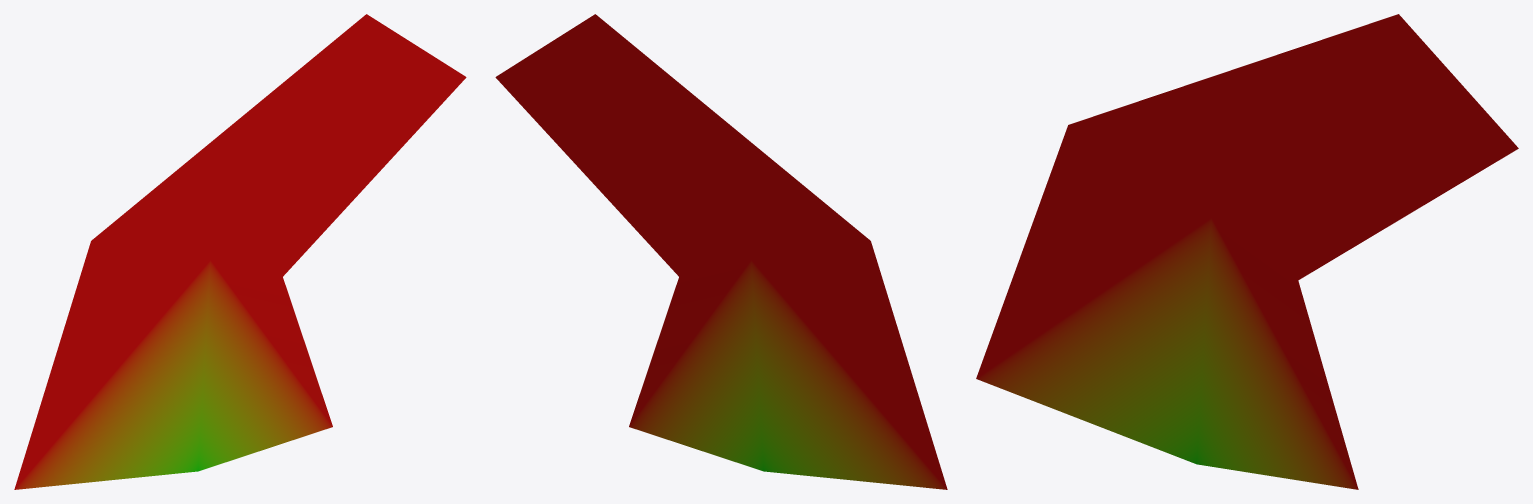
The model's file is Raspberry_LOD4_Var5_wf0oefeja.fbx.
3 views of the same model, side by side, from view 1: azimuth 30°, elevation 25°; view 2: azimuth 150°, elevation 25°; view 3: azimuth 330°, elevation 25° (orthographic). The views are drawn at different scales.
Parts seen in each view (by area): view 1: _v9mw_Var5_LOD4; view 2: _v9mw_Var5_LOD4; view 3: _v9mw_Var5_LOD4.
Part boxes in pixels (x1,y1,x2,y2): _v9mw_Var5_LOD4: (14,14,466,489); _v9mw_Var5_LOD4: (495,14,947,489); _v9mw_Var5_LOD4: (976,14,1518,489).
Size of the model in its own units: 80.43 by 70.74 by 8.43e-06.
